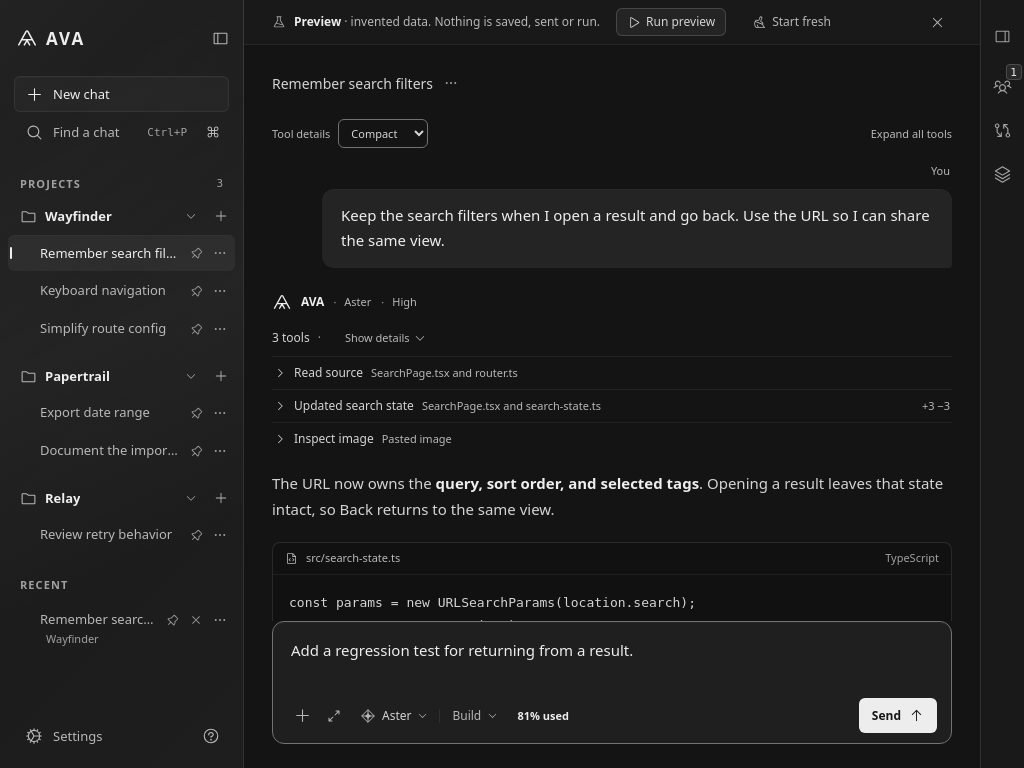
Scenario: monochrome sidebar-only UI preview › starts with the inspector closed in windows narrower than 1280px, for the first view and for new chats
Click the button named "Agents" at (1002, 86), box [986,68,1020,104]
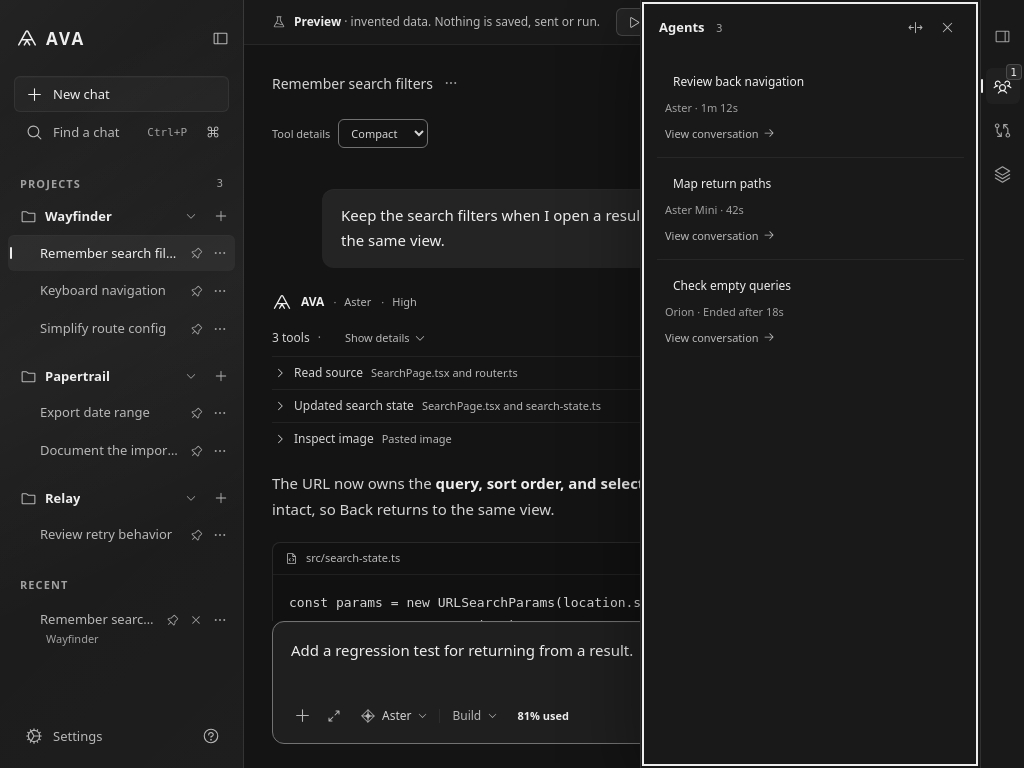
Now the element named "Agents inspector" is shown, box [640,0,980,767]
Click the button "New chat" at (122, 94), box [14,76,229,112]
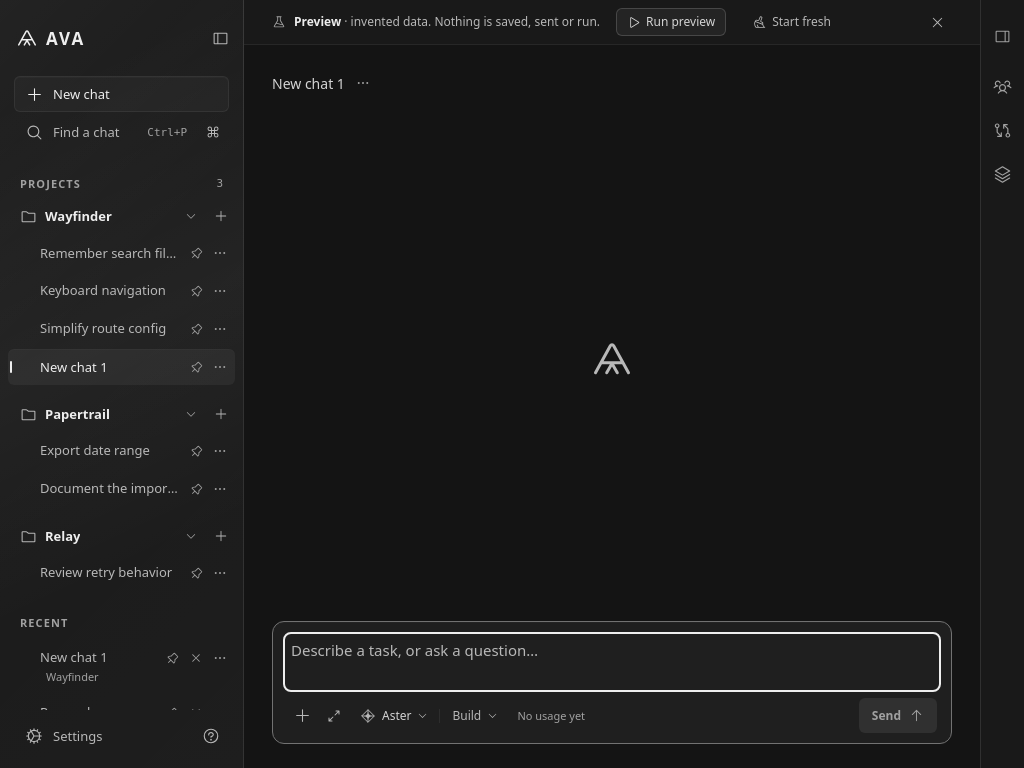
Now the heading "New chat 1" is shown, box [272,72,345,94]
